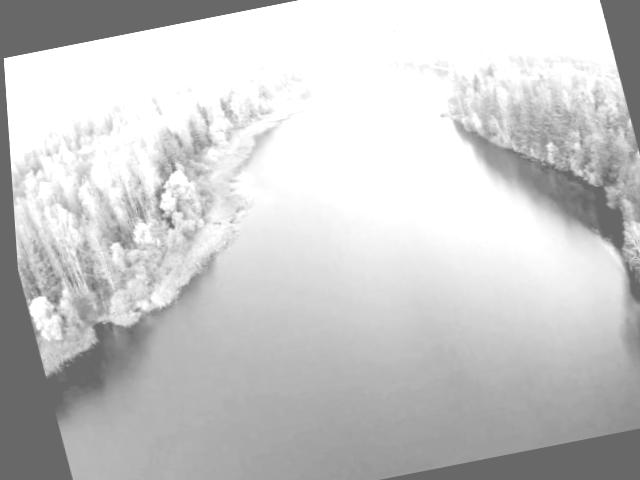hedef: (304, 0, 479, 84)
